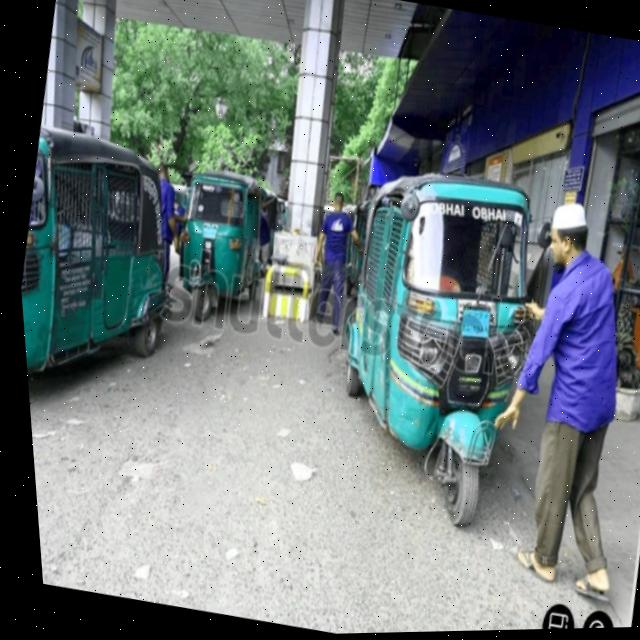cng: (298, 160, 572, 527), (7, 120, 182, 457), (151, 150, 287, 338)
